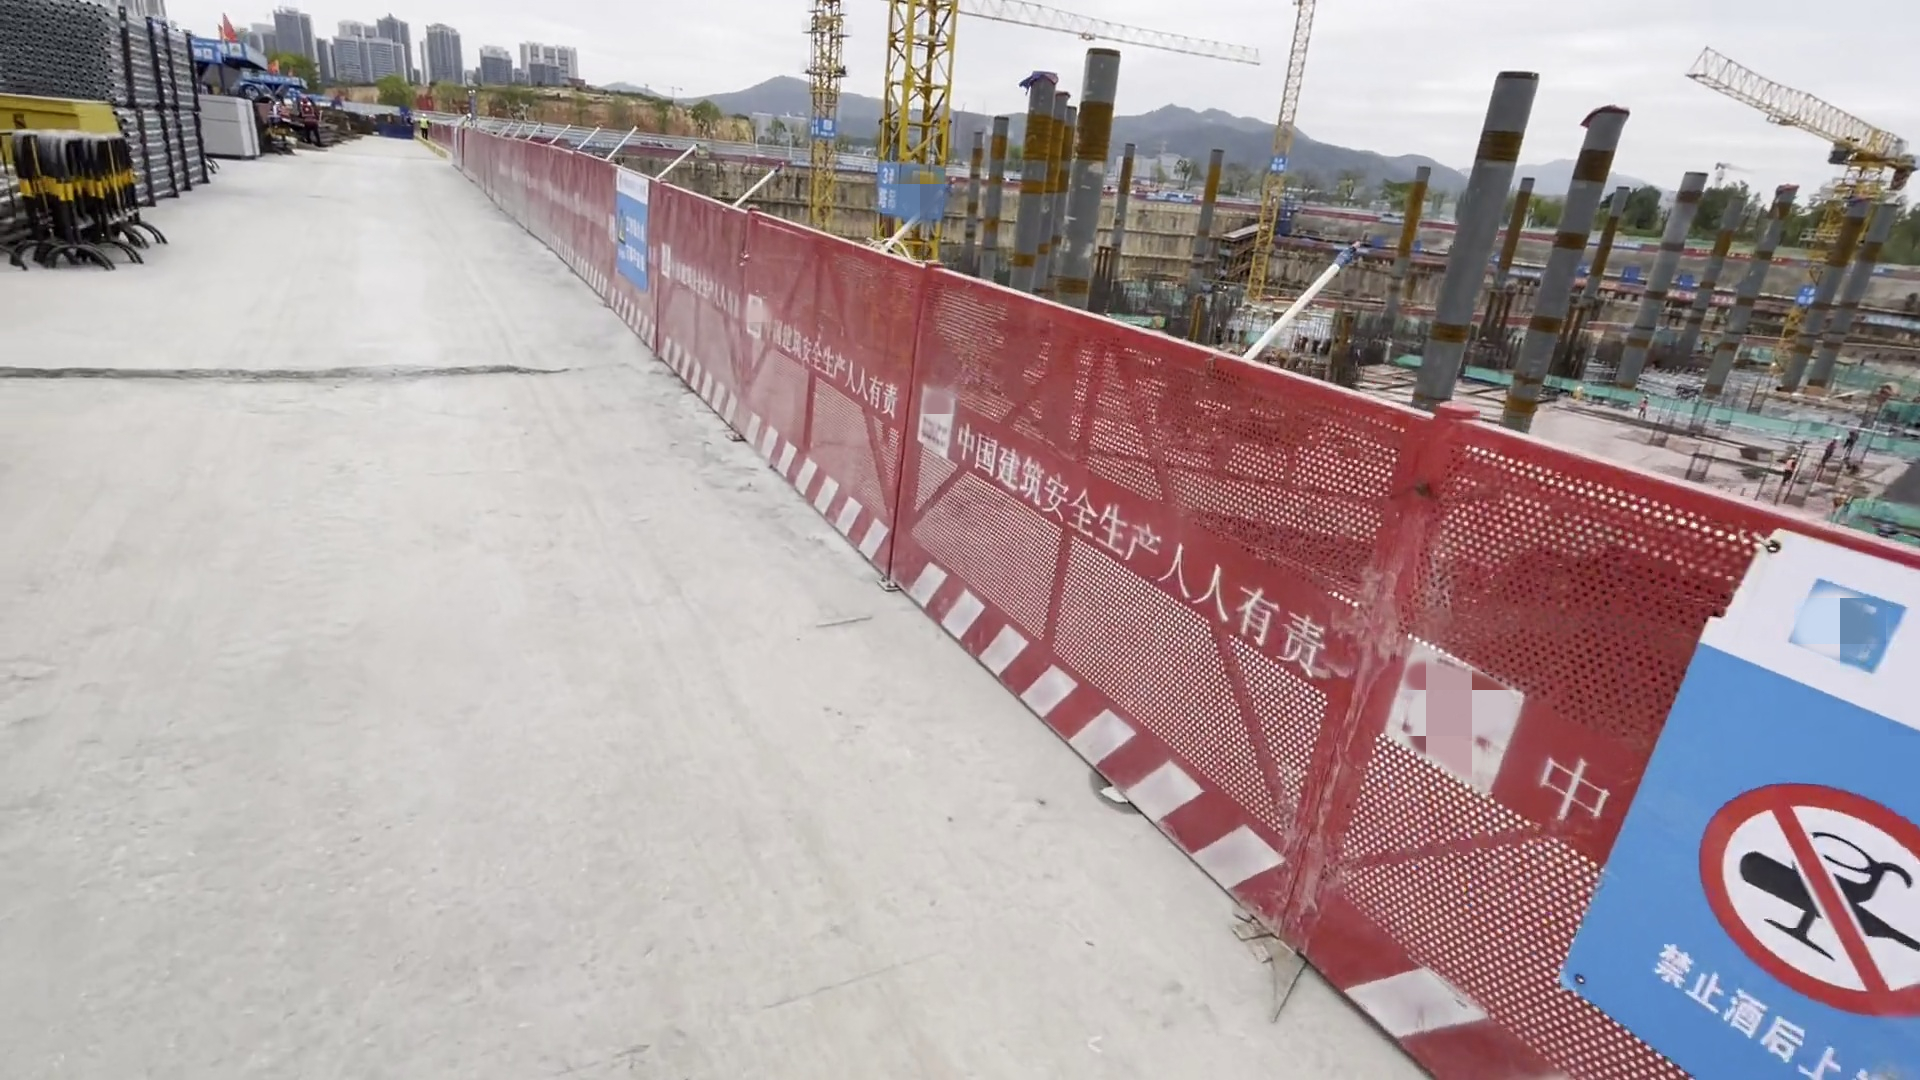brick: (189, 89, 265, 169)
fence: (922, 298, 1625, 1009), (433, 109, 922, 559)
person: (299, 93, 317, 149), (418, 111, 431, 141)
scaffold: (1, 11, 209, 194)
slogan: (1627, 664, 1919, 1080), (610, 207, 648, 273)
